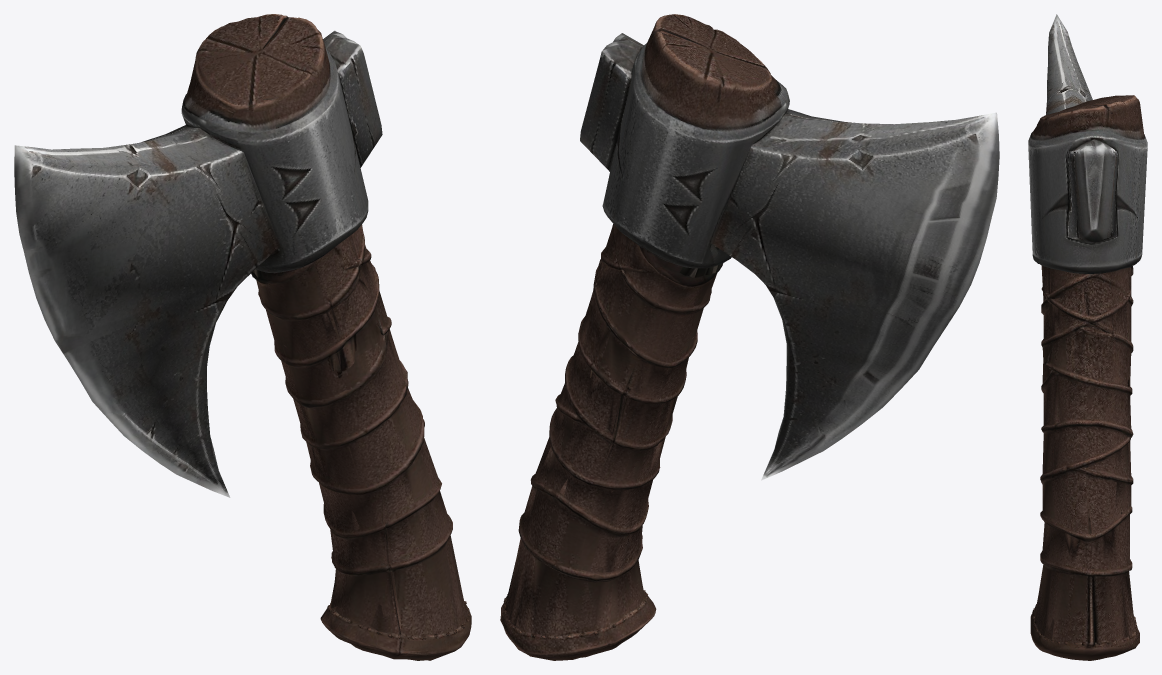
The model's file is axe.fbx.
3 renders of one model, left to right at view 1: azimuth 30°, elevation 25°; view 2: azimuth 150°, elevation 25°; view 3: azimuth 270°, elevation 25°, orthographic. The views are drawn at different scales.
Parts seen in each view (by area): view 1: tripo_node_54fe84f2; view 2: tripo_node_54fe84f2; view 3: tripo_node_54fe84f2.
Part boxes in pixels (x1,y1,x2,y2): tripo_node_54fe84f2: (14,14,471,660); tripo_node_54fe84f2: (500,14,999,660); tripo_node_54fe84f2: (1028,14,1147,660).
Size of the model in its own units: 0.7559 by 0.998 by 0.2129.
1 material, 1 textured.
